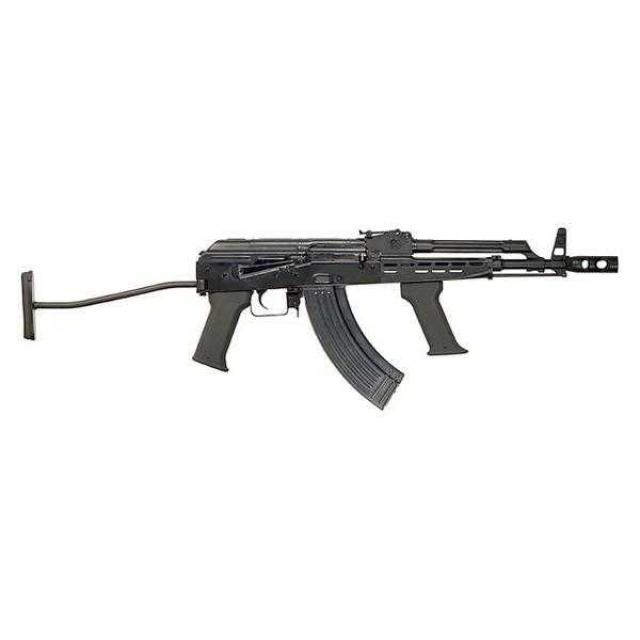heavyweapon: (25, 176, 627, 420)
